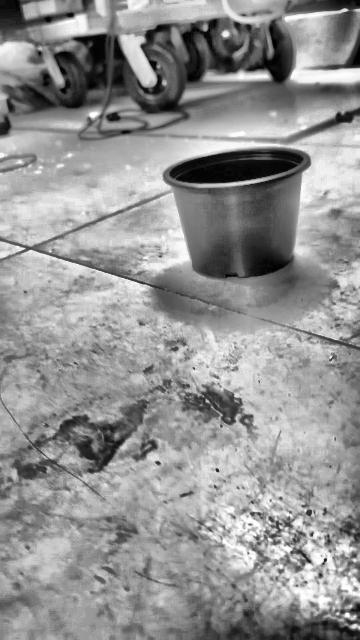pot: (164, 148, 310, 279)
